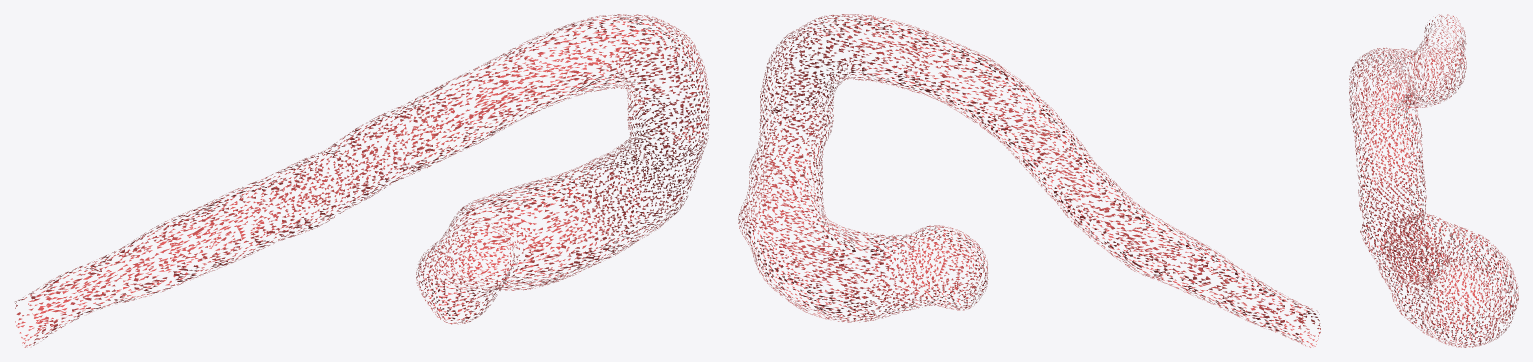
The model's file is aorta.glb.
3 renders of one model, left to right at view 1: azimuth 30°, elevation 25°; view 2: azimuth 150°, elevation 25°; view 3: azimuth 270°, elevation 25°, orthographic. The views are drawn at different scales.
Bounding box in the file's own units: 263 × 115 × 69.52.
